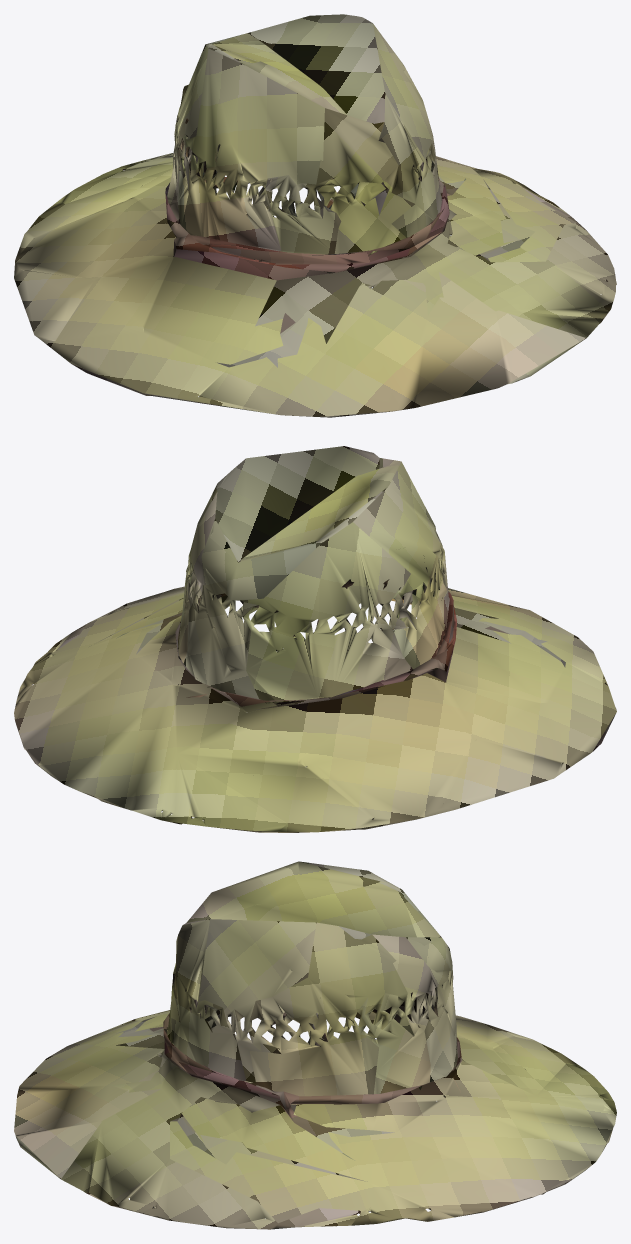
Rendered from DPC_tropical_Trends_Hat-low.glb.
3 renders of one model, top to bottom at view 1: azimuth 30°, elevation 25°; view 2: azimuth 150°, elevation 25°; view 3: azimuth 270°, elevation 25°, orthographic. The views are drawn at different scales.
Visible parts, largest first — view 1: DPC_tropical_Trends_Hat; view 2: DPC_tropical_Trends_Hat; view 3: DPC_tropical_Trends_Hat.
Boxes of the visible parts, x1,y1,x2,y2 form: DPC_tropical_Trends_Hat: (14, 14, 616, 417); DPC_tropical_Trends_Hat: (14, 446, 616, 832); DPC_tropical_Trends_Hat: (14, 861, 616, 1229).
Size of the model in its own units: 0.3749 by 0.1685 by 0.4023.
Materials: 1 (1 with a texture image).
